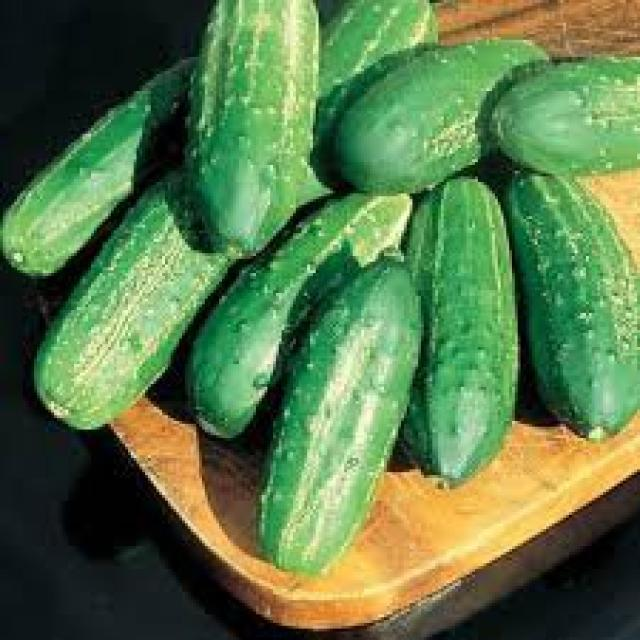cucumber: (261, 260, 414, 577), (402, 174, 518, 483), (508, 172, 638, 438), (332, 43, 554, 198), (193, 0, 323, 252), (487, 56, 640, 183)
